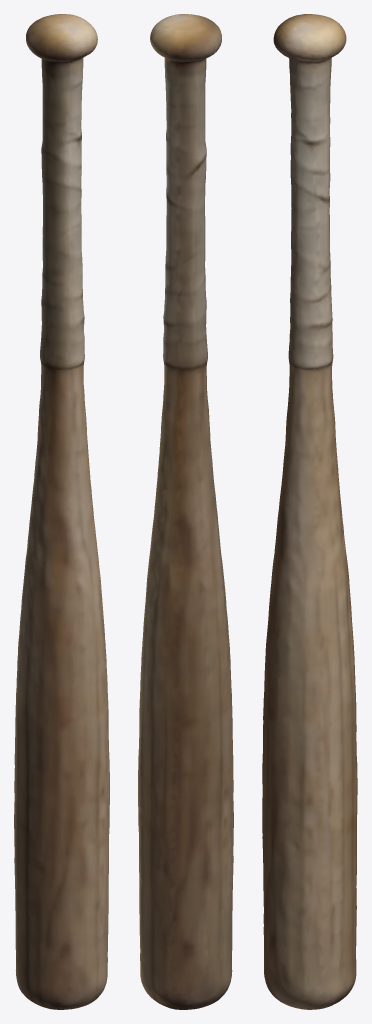
3 views of the same model, side by side, from view 1: azimuth 30°, elevation 25°; view 2: azimuth 210°, elevation 25°; view 3: azimuth 330°, elevation 25° (orthographic).
Parts seen in each view (by area): view 1: Mesh_0; view 2: Mesh_0; view 3: Mesh_0.
Part boxes in pixels (left/top/right/bottom): Mesh_0: left=14, top=14, right=109, bottom=1009; Mesh_0: left=138, top=14, right=233, bottom=1009; Mesh_0: left=262, top=14, right=357, bottom=1009.
Bounding box in the file's own units: 0.0724 × 0.86 × 0.0733.
1 material, 1 textured.
